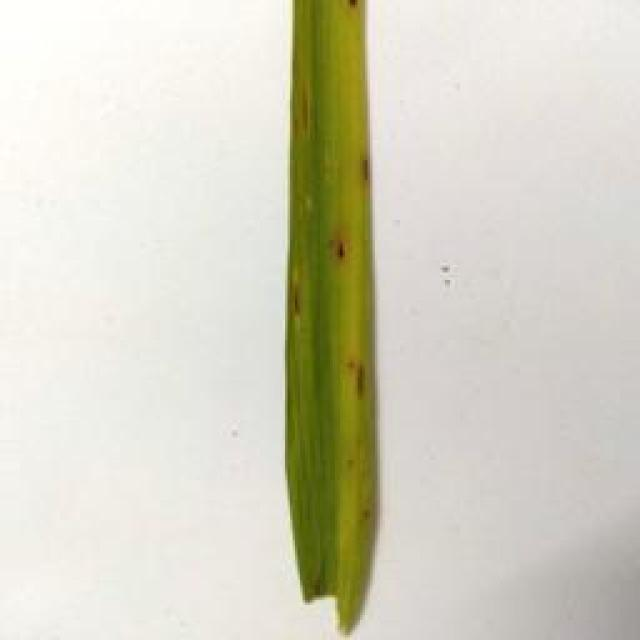Brown_Spot: (350, 141, 386, 195), (345, 352, 374, 417), (311, 232, 357, 272), (282, 276, 310, 322), (290, 89, 316, 138), (328, 0, 371, 9), (361, 512, 373, 529)
